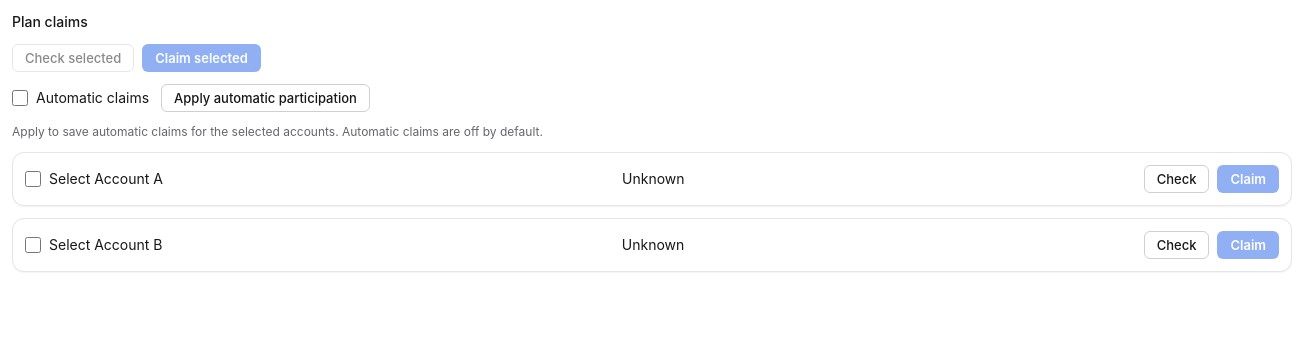
Test: keeps backend claim results when an older polling read completes later
Step 1. Click the checkbox labelled "Select Account A" → click(33, 179), box [25,171,41,187]
Wait 10000 ms
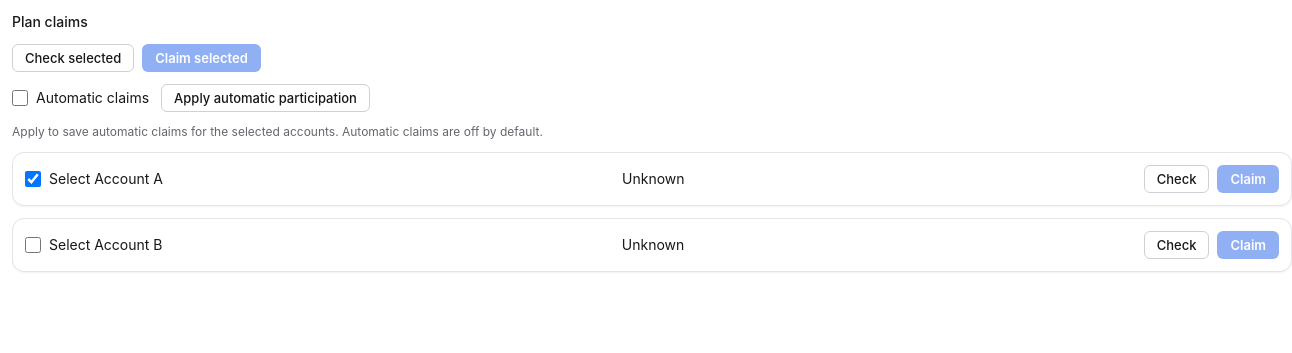
Step 2. Click the button "Check selected" → click(73, 58), box [12,44,134,72]
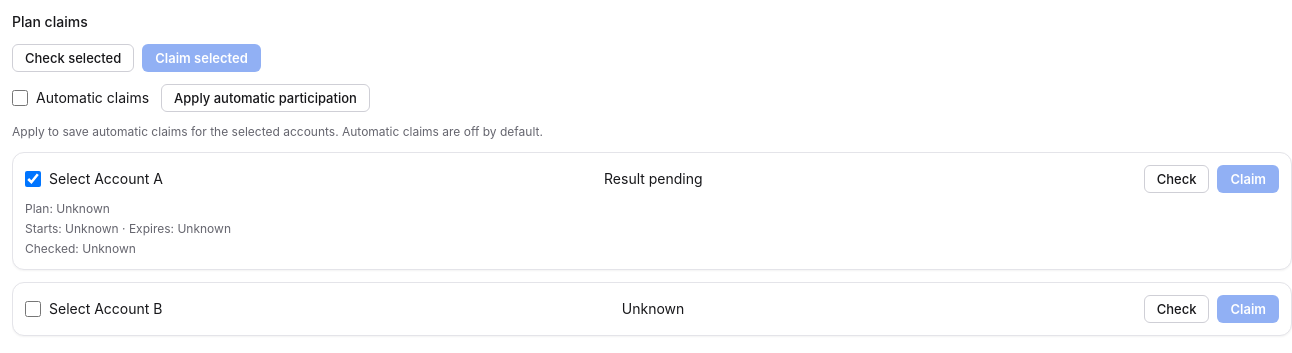
Expected: the text "Result pending" is shown, [604,169,703,189]
